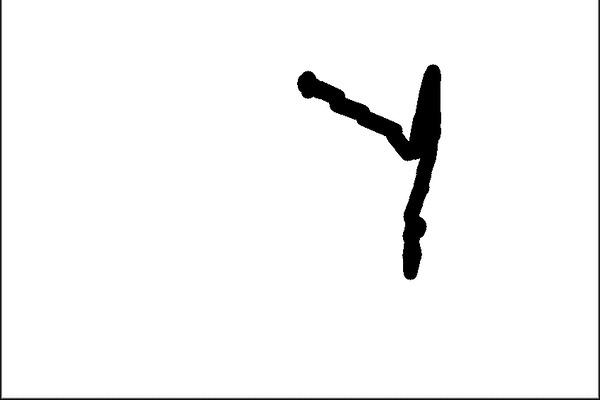Y: (288, 58, 465, 286)
